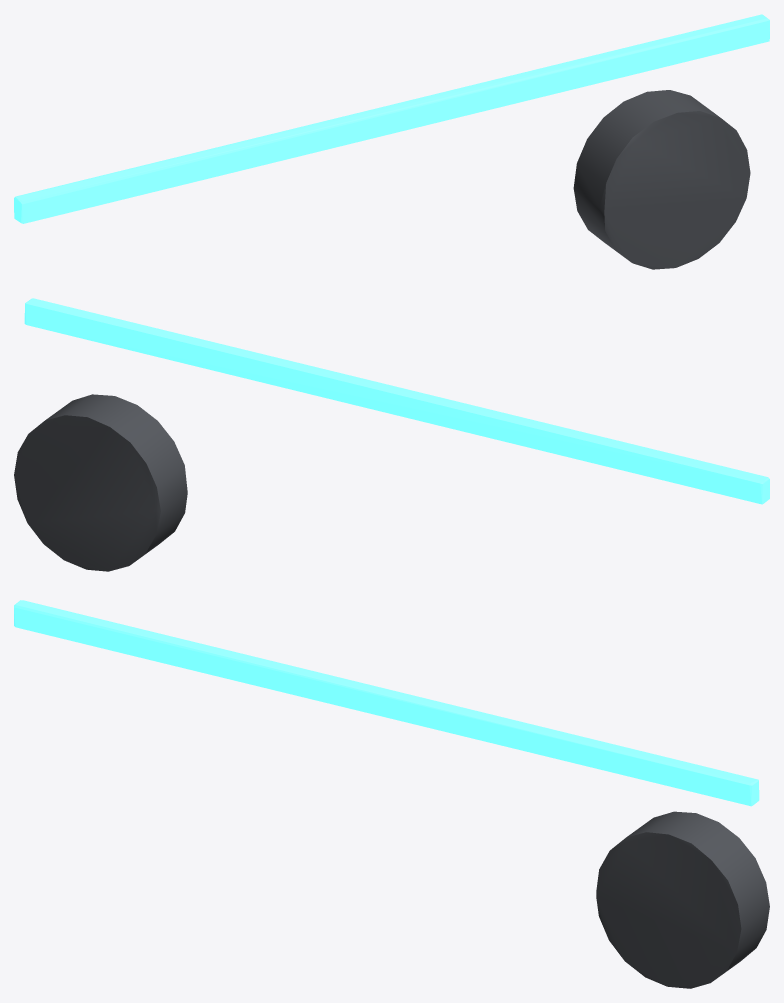
File: cell_0_2_lod1.glb
3 renders of one model, top to bottom at view 1: azimuth 30°, elevation 25°; view 2: azimuth 150°, elevation 25°; view 3: azimuth 330°, elevation 25°, orthographic.
Parts seen in each view (by area): view 1: P_EQ_agv_01__wheel_1, P_EQ_agv_01__lightband_L; view 2: P_EQ_agv_01__wheel_1, P_EQ_agv_01__lightband_L; view 3: P_EQ_agv_01__wheel_1, P_EQ_agv_01__lightband_L.
Boxes of the visible parts, left/top/right/bottom form: P_EQ_agv_01__wheel_1: left=573, top=90, right=750, bottom=269; P_EQ_agv_01__lightband_L: left=14, top=14, right=769, bottom=223; P_EQ_agv_01__wheel_1: left=14, top=394, right=187, bottom=571; P_EQ_agv_01__lightband_L: left=24, top=298, right=769, bottom=504; P_EQ_agv_01__wheel_1: left=596, top=811, right=769, bottom=988; P_EQ_agv_01__lightband_L: left=14, top=600, right=759, bottom=806.
Bounding box in the file's own units: 0.9983 × 0.2938 × 0.0795.
